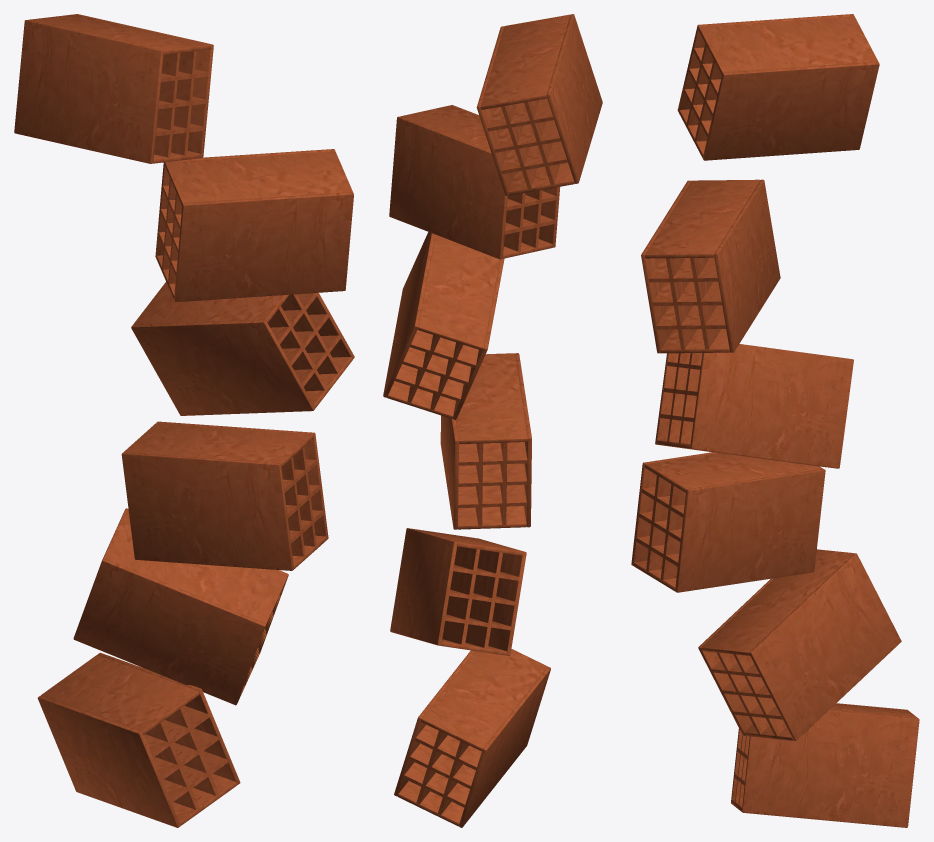
The model's file is ALV-BLC-004_anim.glb.
3 renders of one model, left to right at view 1: azimuth 30°, elevation 25°; view 2: azimuth 150°, elevation 25°; view 3: azimuth 270°, elevation 25°, orthographic. The views are drawn at different scales.
Parts seen in each view (by area): view 1: ALV-BLC-004_anim4, ALV-BLC-004_anim2, ALV-BLC-004_anim5, ALV-BLC-004_anim0, ALV-BLC-004_anim1, ALV-BLC-004_anim3; view 2: ALV-BLC-004_anim5, ALV-BLC-004_anim4, ALV-BLC-004_anim0, ALV-BLC-004_anim3, ALV-BLC-004_anim1, ALV-BLC-004_anim2; view 3: ALV-BLC-004_anim5, ALV-BLC-004_anim1, ALV-BLC-004_anim2, ALV-BLC-004_anim3, ALV-BLC-004_anim4, ALV-BLC-004_anim0.
Boxes of the visible parts, left/top/right/bottom form: ALV-BLC-004_anim4: left=155, top=149, right=353, bottom=301; ALV-BLC-004_anim2: left=121, top=421, right=328, bottom=570; ALV-BLC-004_anim5: left=14, top=14, right=213, bottom=163; ALV-BLC-004_anim0: left=37, top=652, right=240, bottom=827; ALV-BLC-004_anim1: left=73, top=508, right=288, bottom=705; ALV-BLC-004_anim3: left=131, top=282, right=354, bottom=415; ALV-BLC-004_anim5: left=476, top=14, right=602, bottom=195; ALV-BLC-004_anim4: left=389, top=105, right=560, bottom=259; ALV-BLC-004_anim0: left=394, top=649, right=550, bottom=827; ALV-BLC-004_anim3: left=383, top=232, right=504, bottom=419; ALV-BLC-004_anim1: left=390, top=528, right=526, bottom=655; ALV-BLC-004_anim2: left=440, top=353, right=531, bottom=529; ALV-BLC-004_anim5: left=677, top=14, right=879, bottom=160; ALV-BLC-004_anim1: left=698, top=549, right=901, bottom=740; ALV-BLC-004_anim2: left=631, top=452, right=825, bottom=592; ALV-BLC-004_anim3: left=655, top=344, right=853, bottom=468; ALV-BLC-004_anim4: left=641, top=179, right=780, bottom=353; ALV-BLC-004_anim0: left=731, top=703, right=919, bottom=827.
Bounding box in the file's own units: 0.5055 × 1.49 × 0.4955.
1 material, 1 textured.
